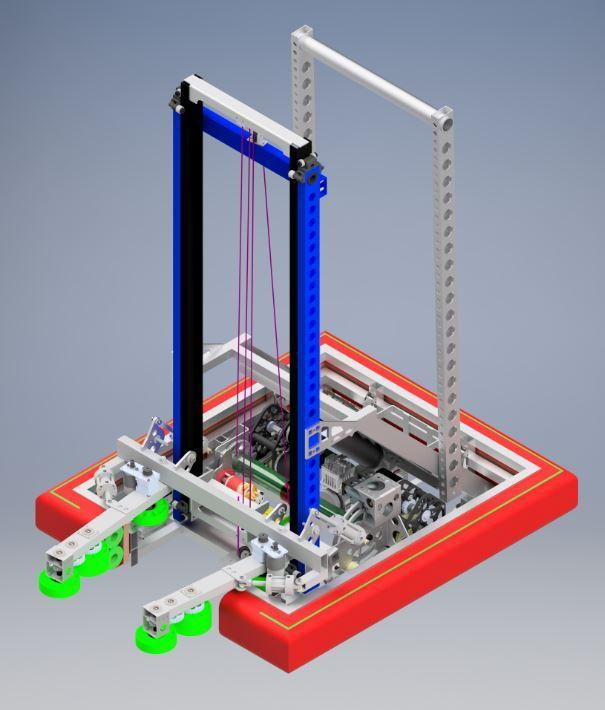robot: (28, 12, 581, 677)
